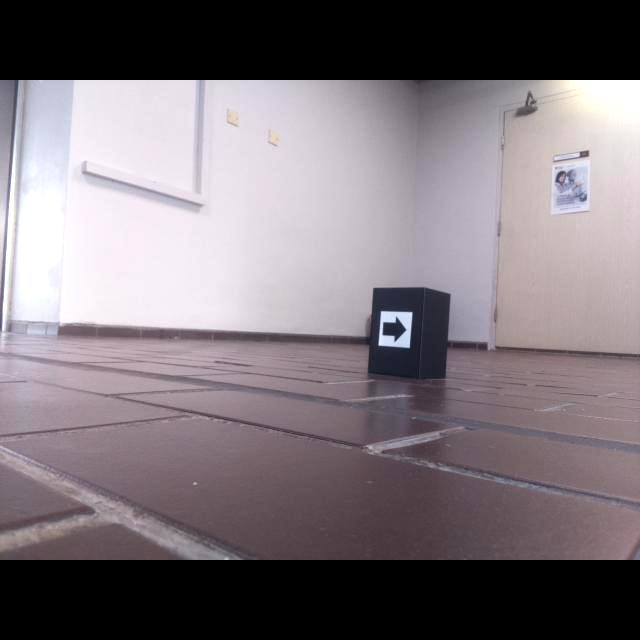RIGHT: (382, 315, 408, 344)
